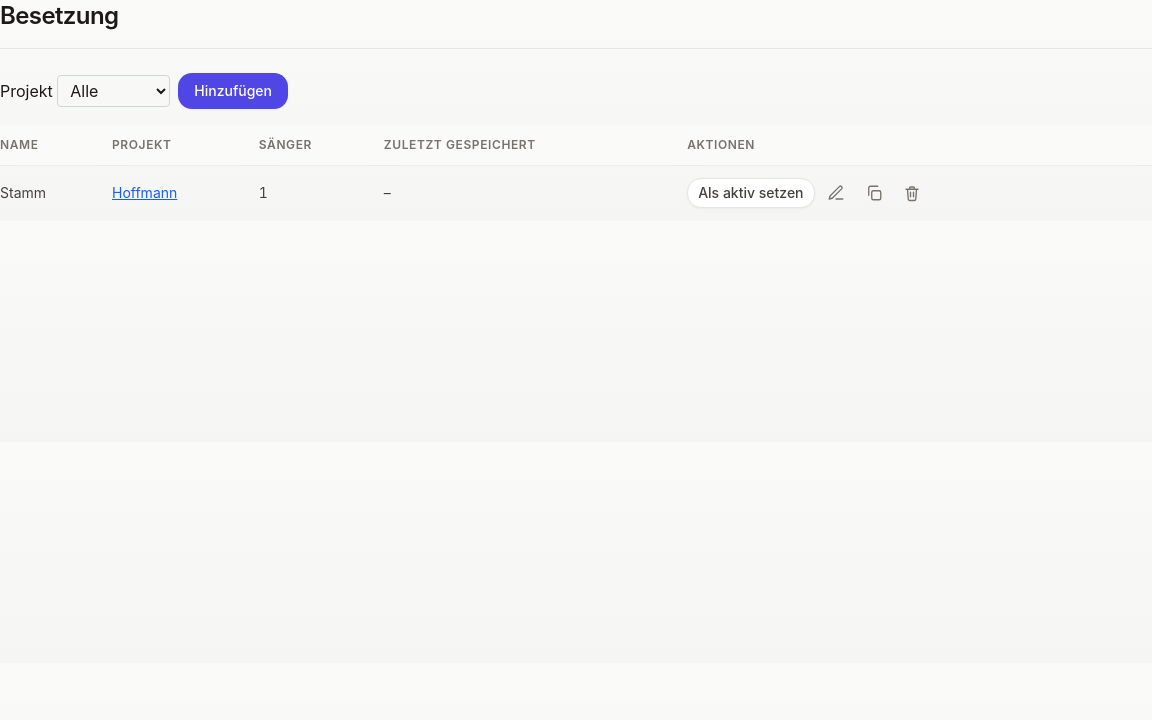
BesetzungPage › deletes a lineup after confirm
Expected: the text "Stamm" is shown, [0,166,112,220]
Step 1. Click the button named "Löschen" → (912, 193), box [894,176,928,210]
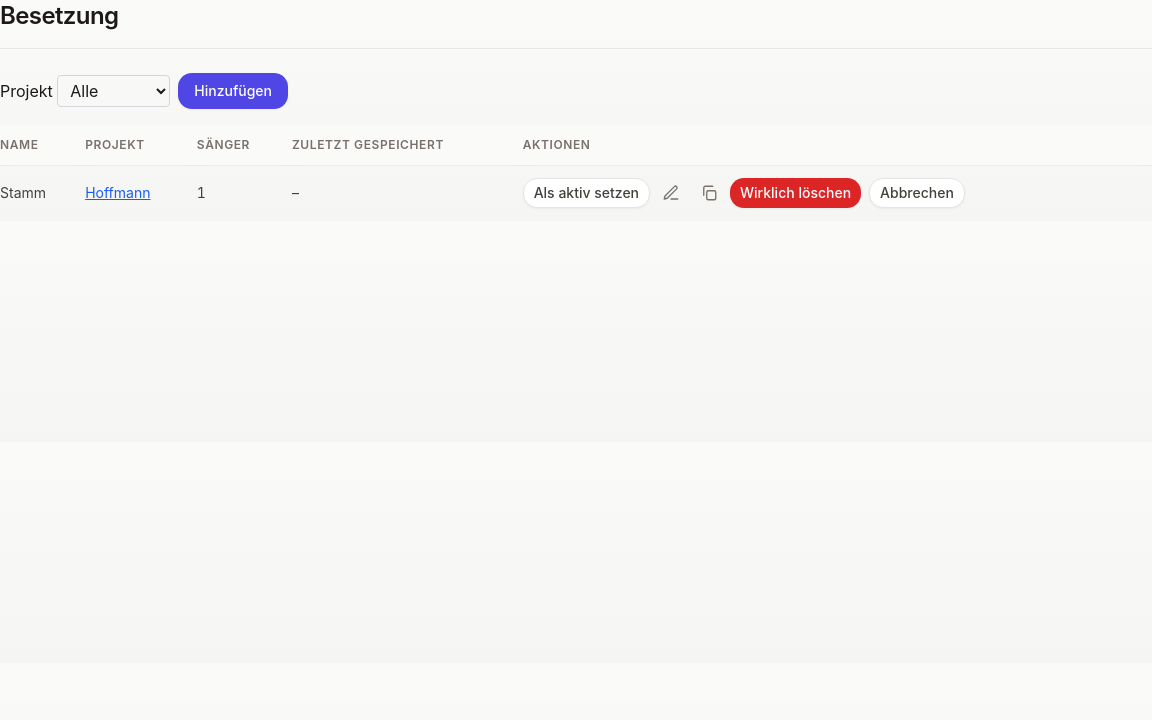
Step 2. Click the button "Wirklich löschen" → (796, 193), box [730,178,861,208]
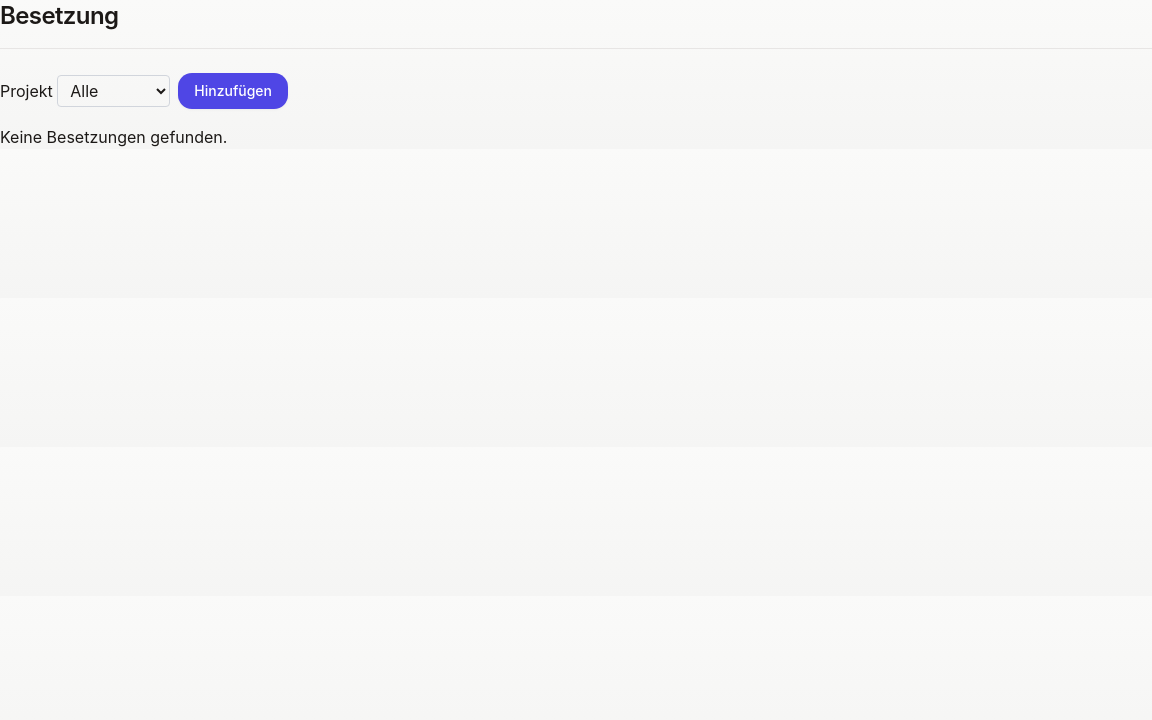
Now the text "Stamm" is gone
